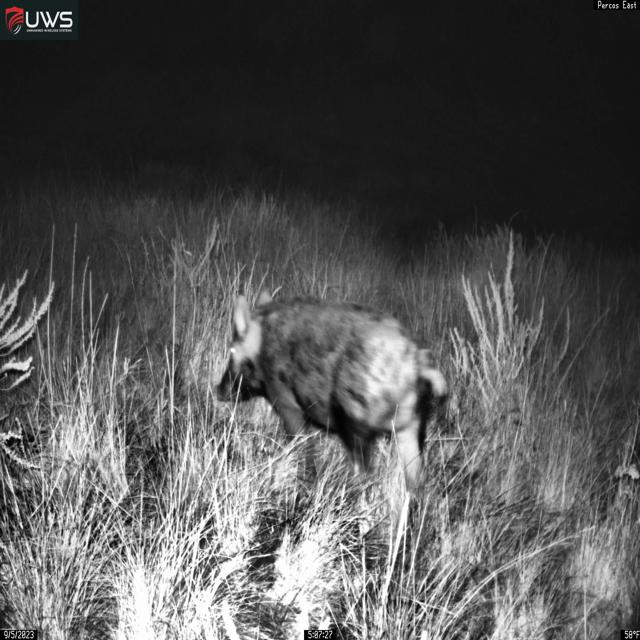pig: (214, 288, 449, 508)
